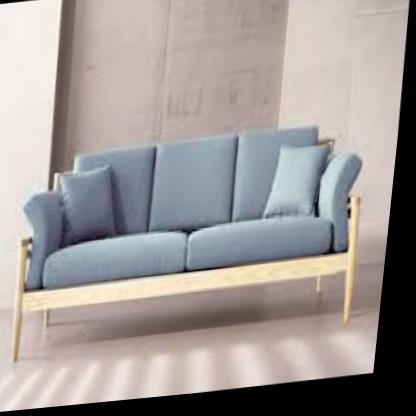Sofa: (0, 101, 393, 386)
